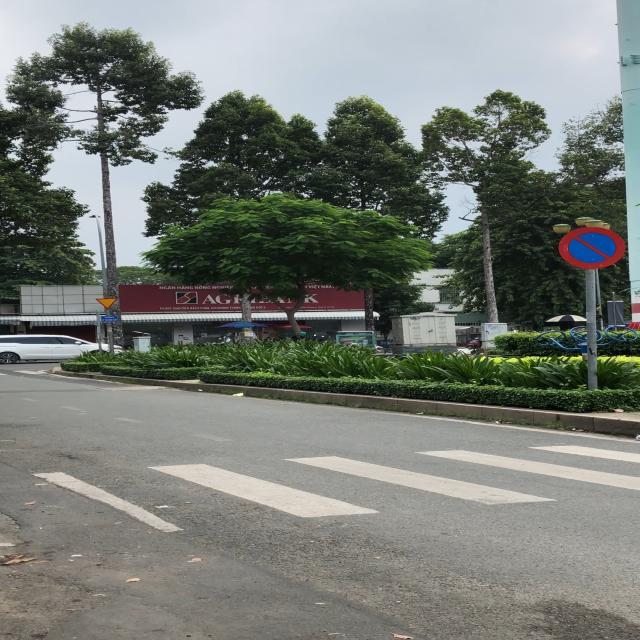Bien bao cam do xe: (559, 224, 632, 272)
Bien bao giao nhau voi duong uu tien: (94, 297, 120, 310)
